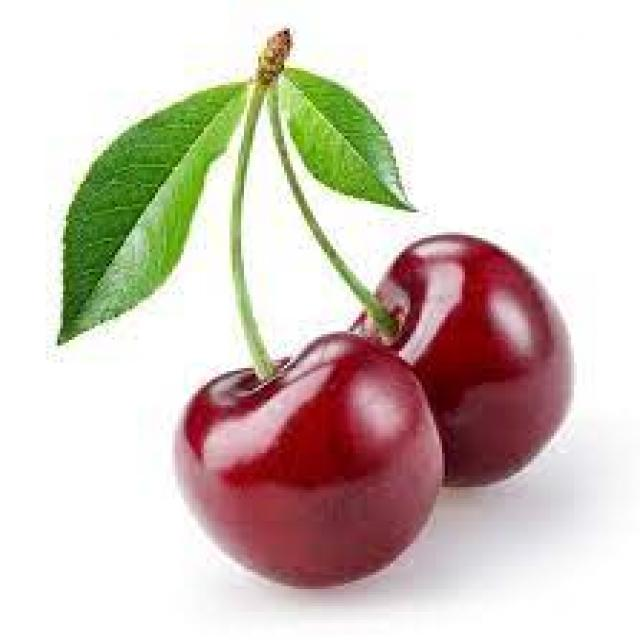cherry: (46, 25, 580, 592)
